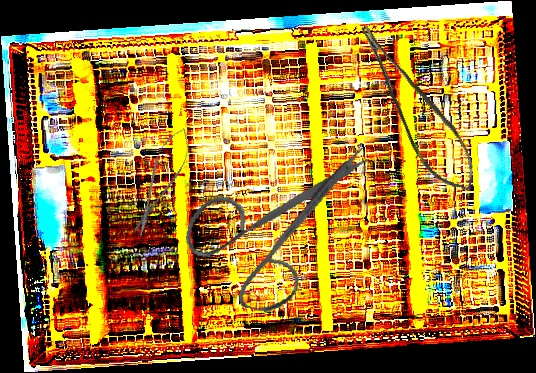Iris Scissors: (174, 115, 373, 327)
Micro Scissor: (354, 8, 486, 205), (123, 122, 198, 242)
